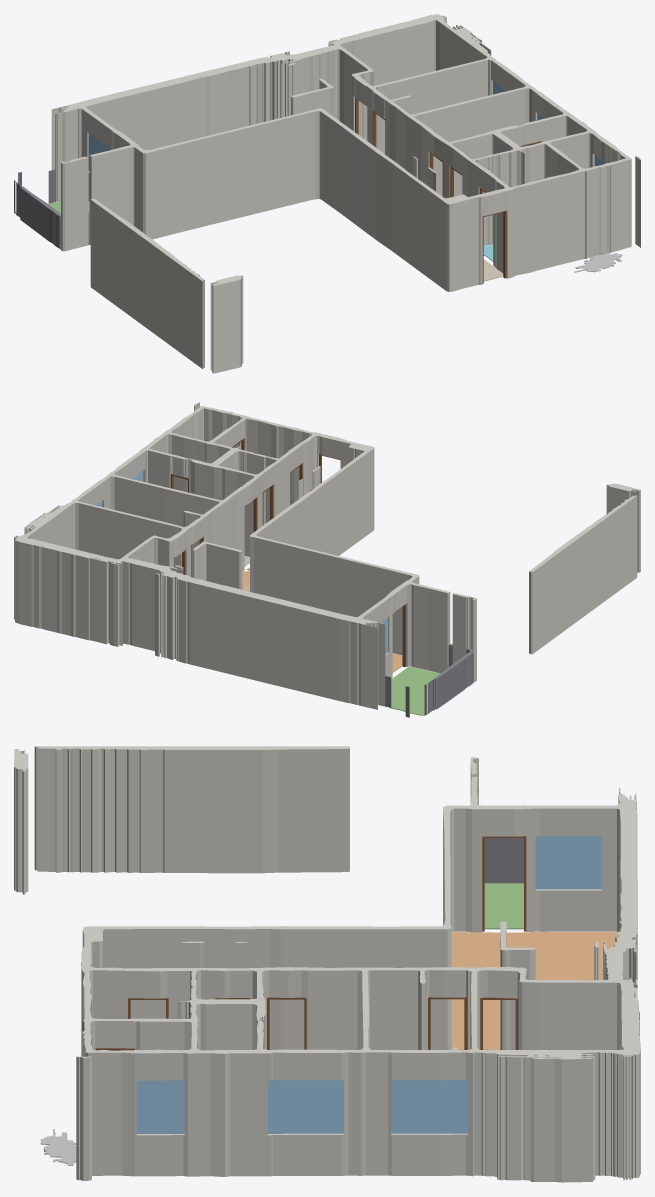
3 renders of one model, top to bottom at view 1: azimuth 30°, elevation 25°; view 2: azimuth 150°, elevation 25°; view 3: azimuth 270°, elevation 25°, orthographic. The views are drawn at different scales.
Visible parts, largest first — view 1: walls, railings, floor_15_Undefined; view 2: walls, railings, floor_0_Outdoor; view 3: walls, floor_4_Living_Room, window_12, window_13, window_11, window_14, railings, floor_0_Outdoor, floor_15_Undefined, door_0.
Boxes of the visible parts, x1,y1,x2,y2 form: walls: [51, 14, 640, 373]; railings: [14, 169, 90, 249]; floor_15_Undefined: [574, 253, 622, 272]; walls: [14, 402, 640, 709]; railings: [385, 643, 473, 717]; floor_0_Outdoor: [379, 666, 440, 715]; walls: [14, 746, 640, 1182]; floor_4_Living_Room: [451, 931, 617, 1049]; window_12: [391, 1079, 468, 1133]; window_13: [267, 1080, 343, 1133]; window_11: [535, 836, 601, 889]; window_14: [136, 1080, 184, 1133]; railings: [484, 838, 523, 883]; floor_0_Outdoor: [484, 883, 523, 929]; floor_15_Undefined: [40, 1129, 76, 1165]; door_0: [482, 836, 526, 931].
Size of the model in its own units: 14.72 by 2.72 by 12.46.
